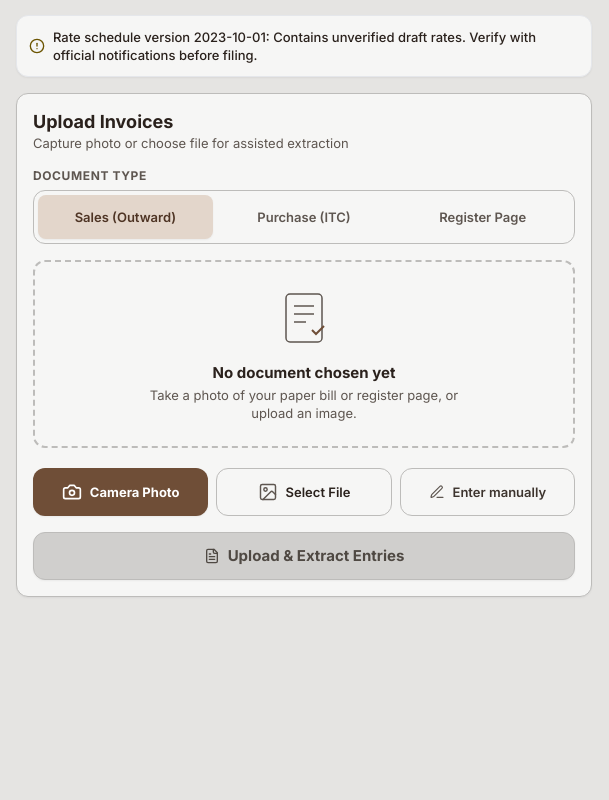
Test: UI_SPEC Screen 1: Scan Screen Features › renders "Enter manually" button and immediately opens manual entry form
This screenshot has width=609, height=800.
What coordinates should you click on to do the following:
click the button "Enter manually"
I would click on:
 (487, 492)
Its box is [400,468,575,516].
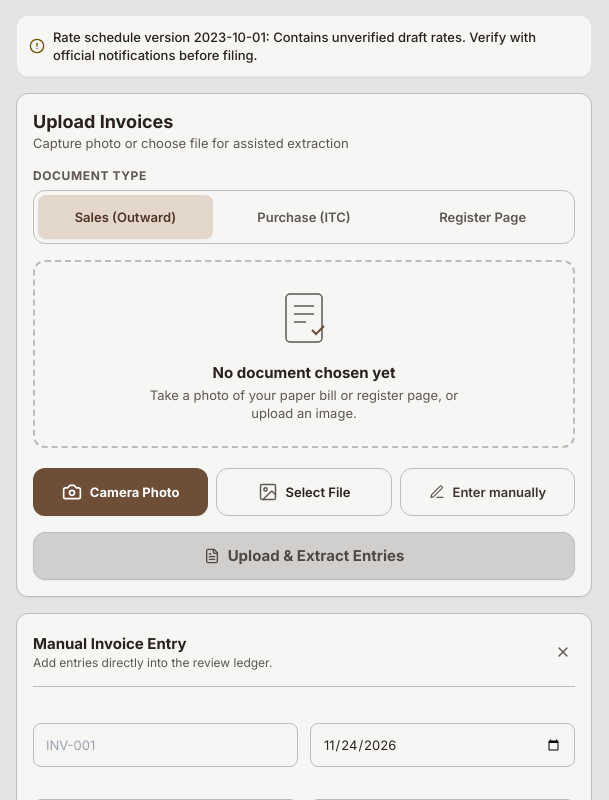
Result: the heading "Manual Invoice Entry" is shown at [33,634,187,653]
Result: the field with placeholder "INV-001" is shown at [33,723,298,767]
